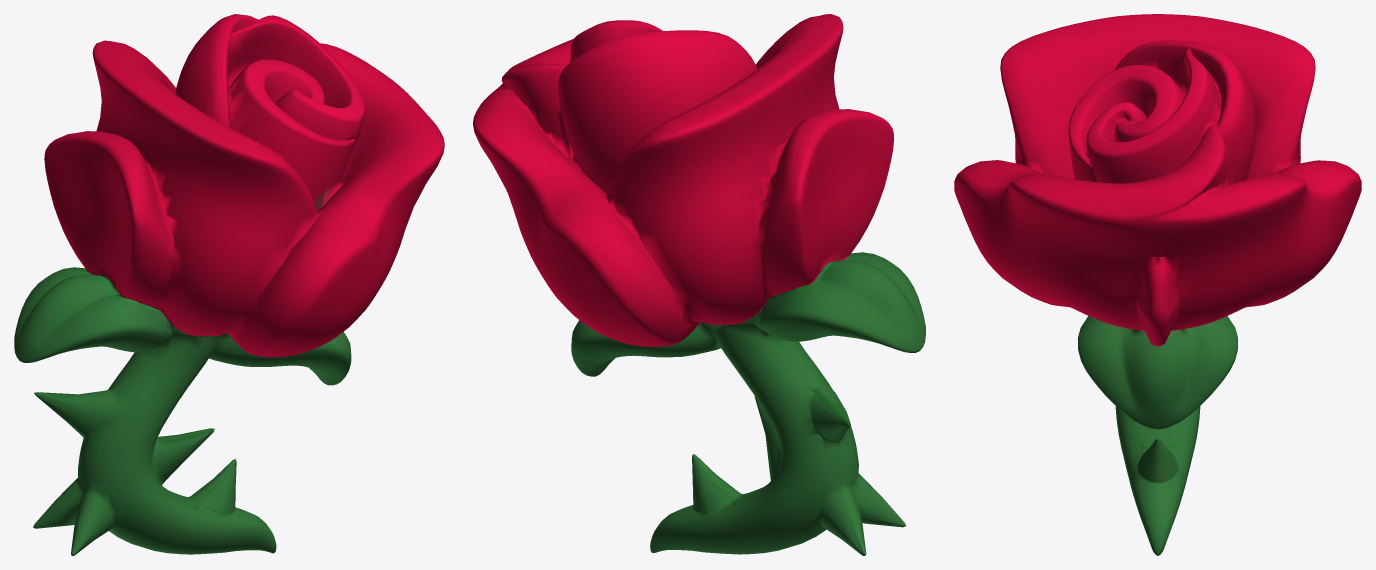
The model's file is weapon_rose.glb.
3 renders of one model, left to right at view 1: azimuth 30°, elevation 25°; view 2: azimuth 150°, elevation 25°; view 3: azimuth 270°, elevation 25°, orthographic. The views are drawn at different scales.
Visible parts, largest first — view 1: tripo_node_6487576b-2b74-4ceb-aea1-6e10408c1e4b; view 2: tripo_node_6487576b-2b74-4ceb-aea1-6e10408c1e4b; view 3: tripo_node_6487576b-2b74-4ceb-aea1-6e10408c1e4b.
Part boxes in pixels (x1,y1,x2,y2): tripo_node_6487576b-2b74-4ceb-aea1-6e10408c1e4b: (14,14,444,555); tripo_node_6487576b-2b74-4ceb-aea1-6e10408c1e4b: (473,14,925,555); tripo_node_6487576b-2b74-4ceb-aea1-6e10408c1e4b: (954,14,1361,555).
Size of the model in its own units: 0.7915 by 0.9995 by 0.7397.
Materials: 1 (1 with a texture image).
